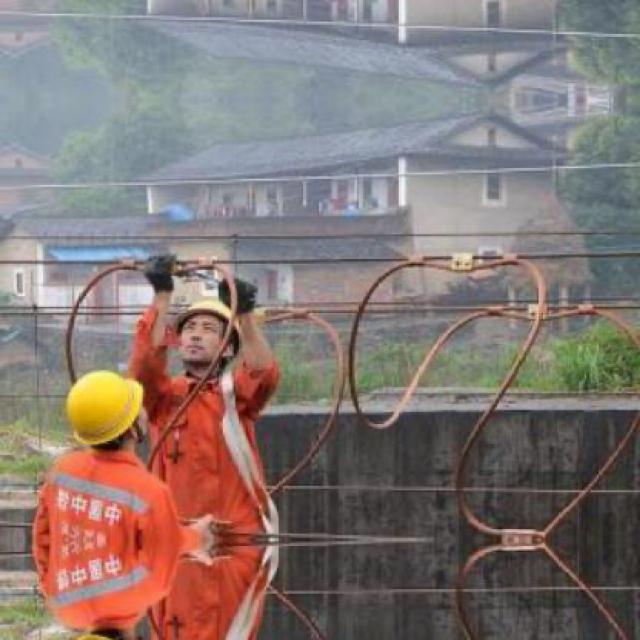helmet: (57, 364, 151, 458), (168, 285, 243, 372)
